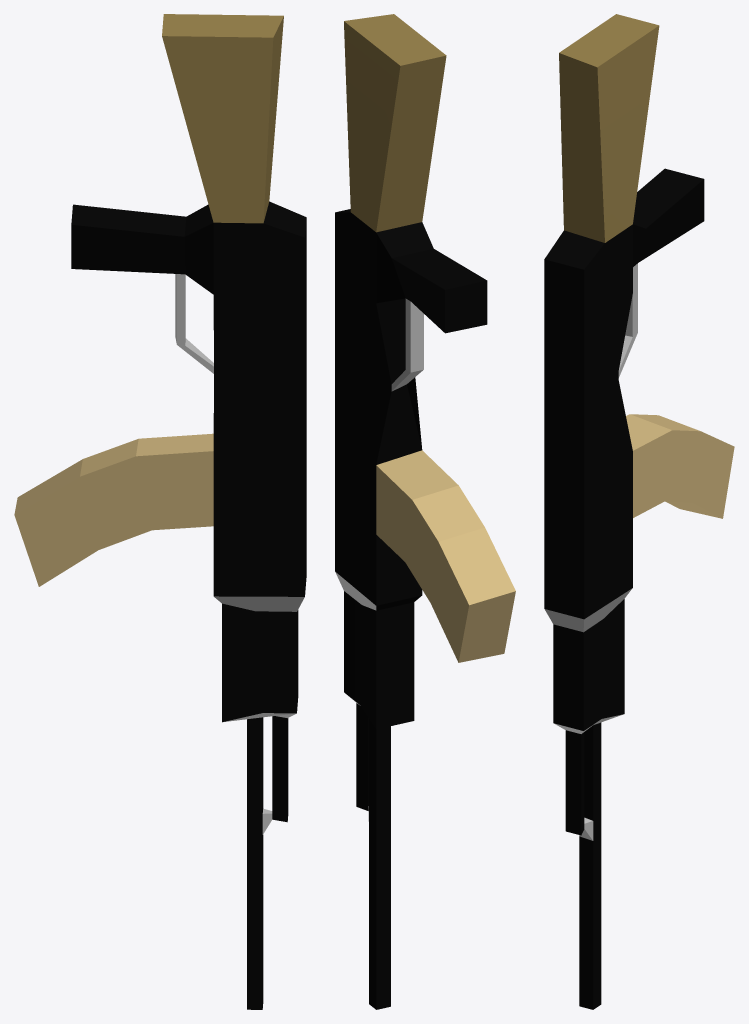
Rendered from weapon1kalash.fbx.
3 renders of one model, left to right at view 1: azimuth 30°, elevation 25°; view 2: azimuth 150°, elevation 25°; view 3: azimuth 270°, elevation 25°, orthographic. The views are drawn at different scales.
Parts seen in each view (by area): view 1: pCube7; view 2: pCube7; view 3: pCube7.
Part boxes in pixels (x1,y1,x2,y2): pCube7: (14, 14, 306, 1009); pCube7: (335, 14, 515, 1009); pCube7: (544, 14, 734, 1009).
Bounding box in the file's own units: 0.2935 × 1.16 × 0.2101.
